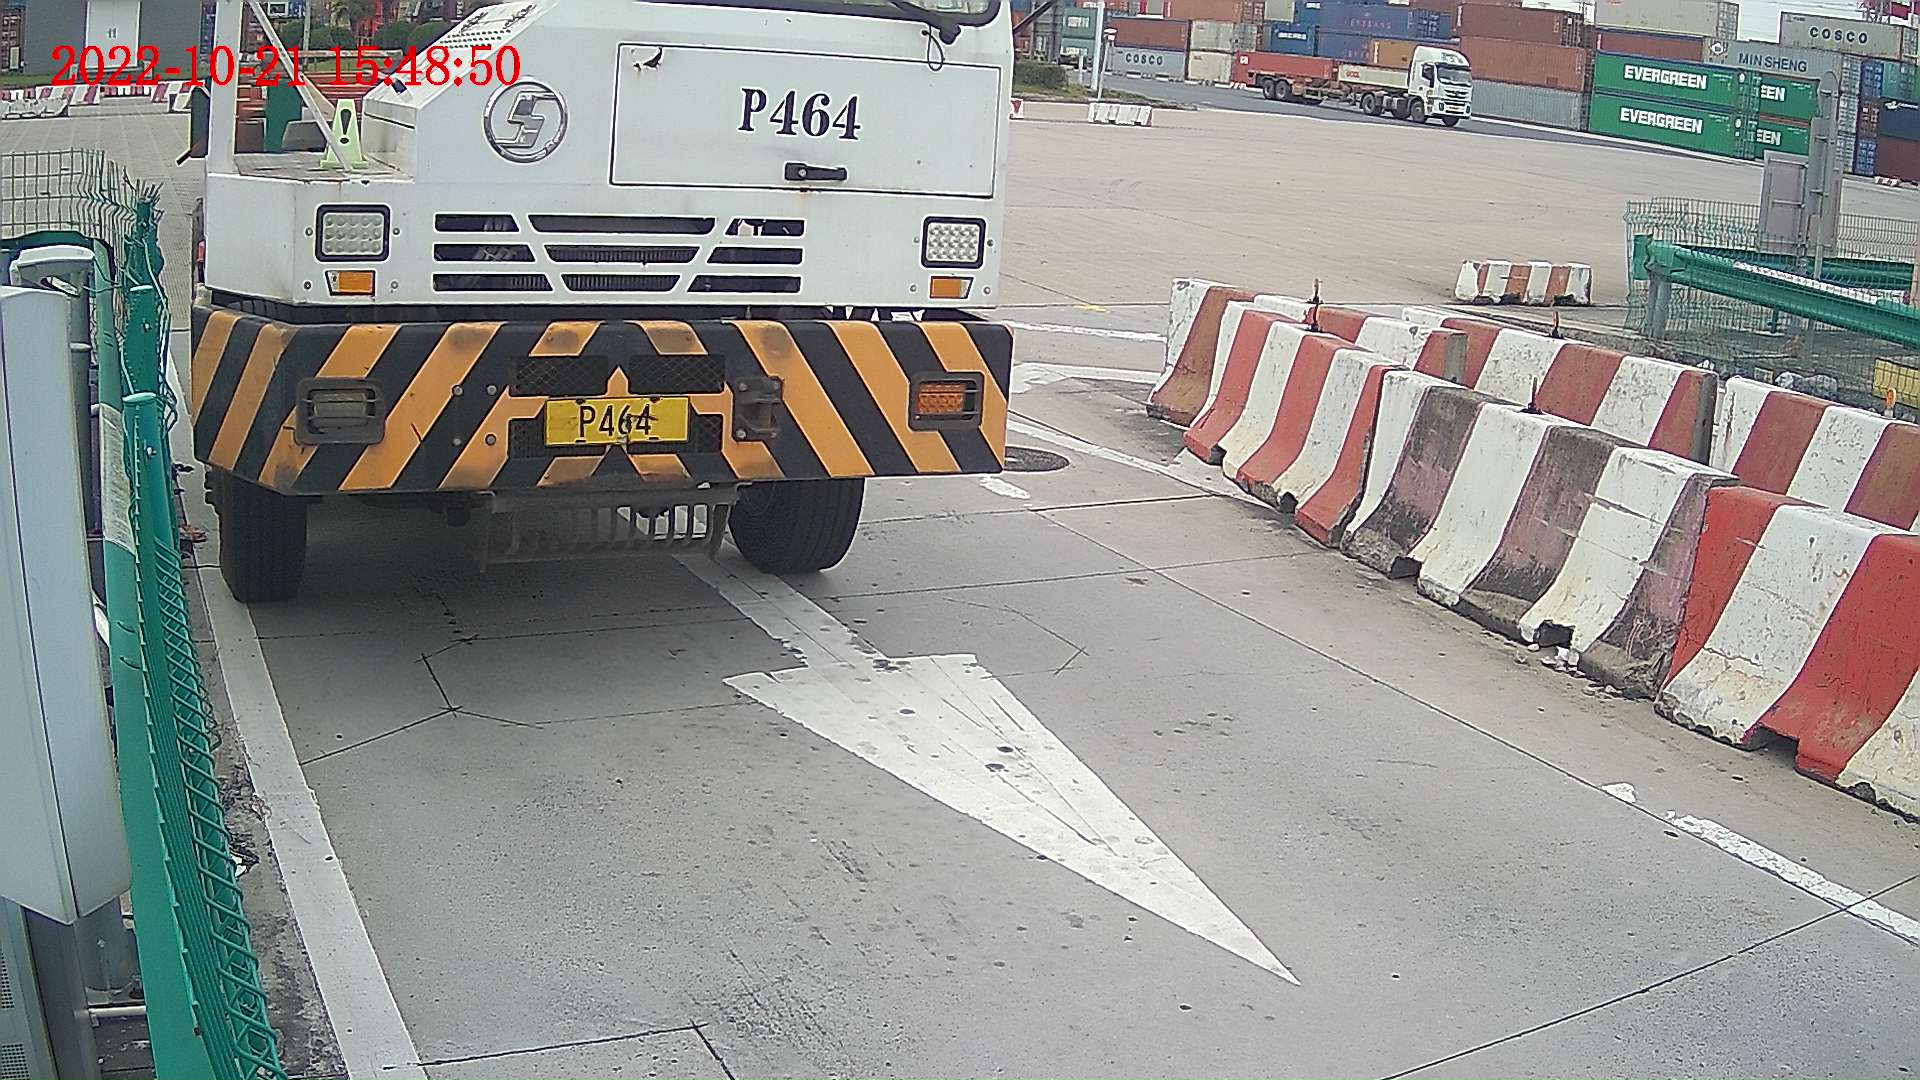head: (192, 1, 1018, 594)
plate: (546, 402, 692, 439)
